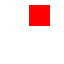square: (29, 5, 49, 25)
